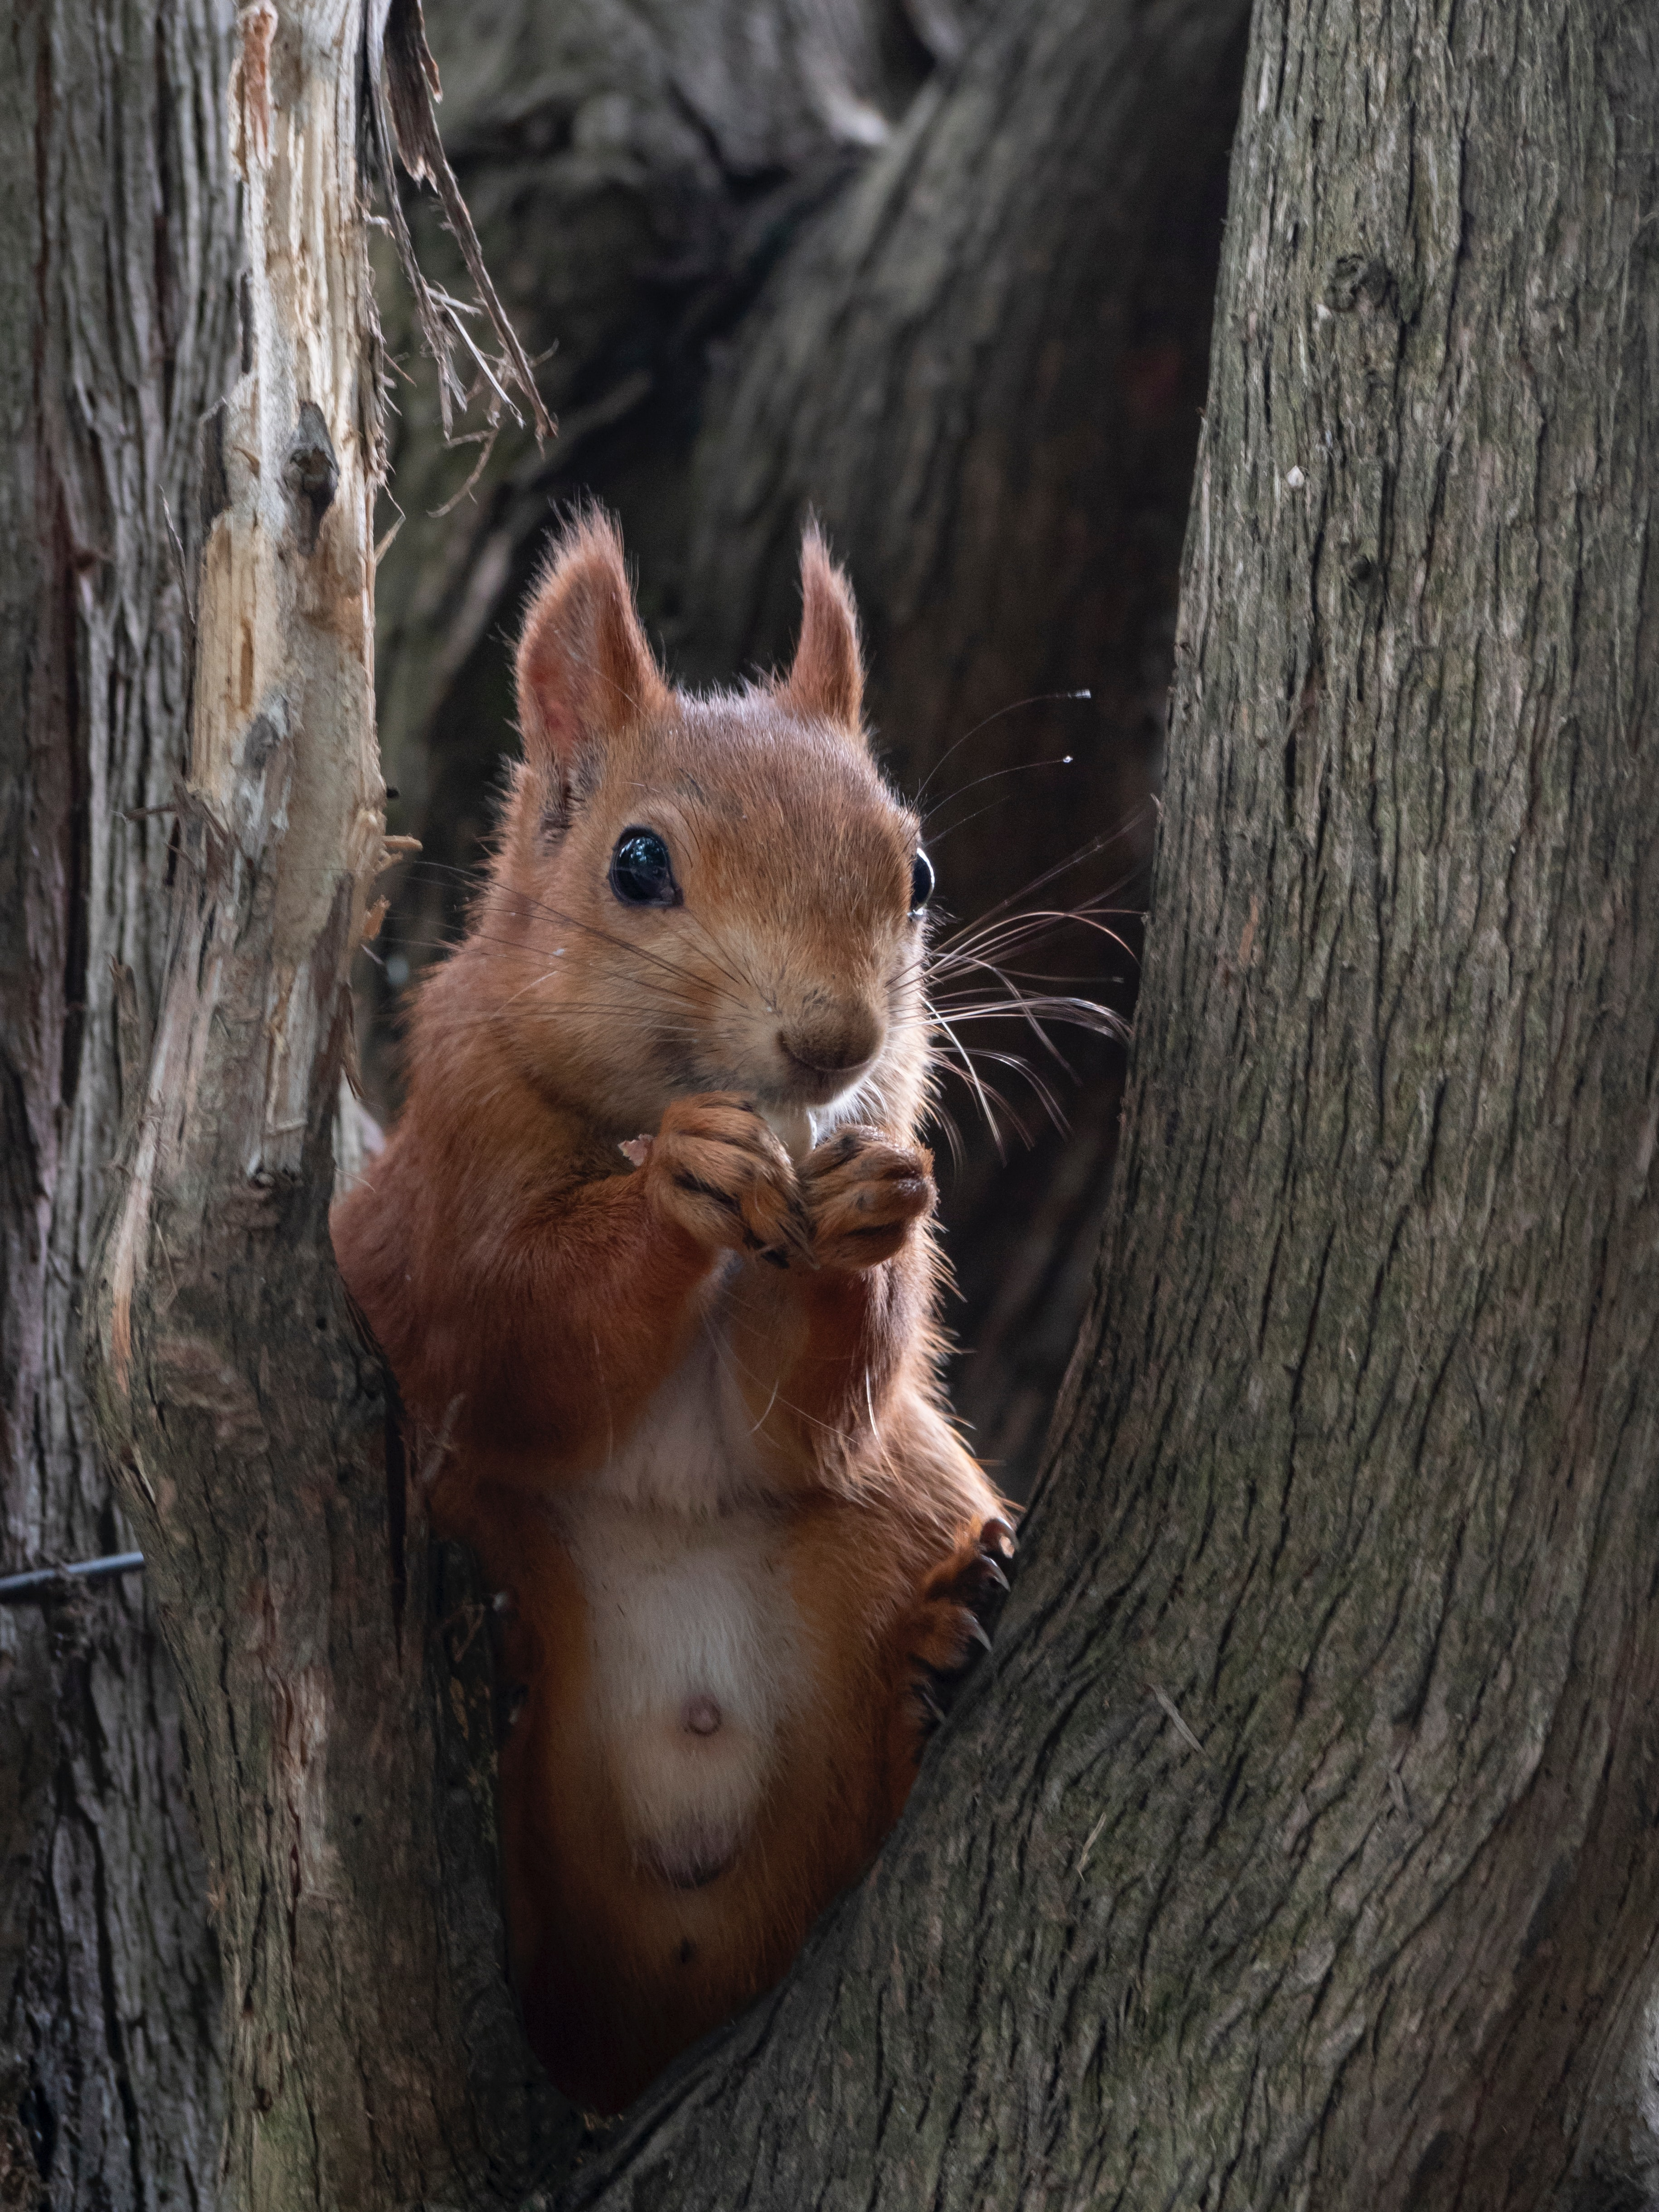squirrel: (373, 474, 1042, 2000)
